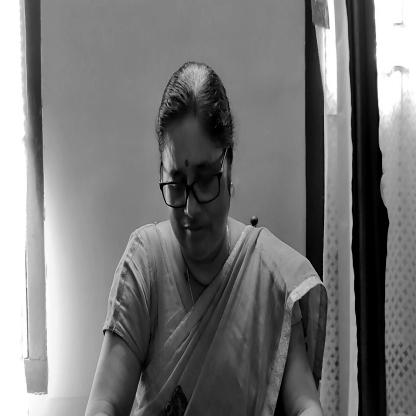Normal: (155, 62, 232, 260)
